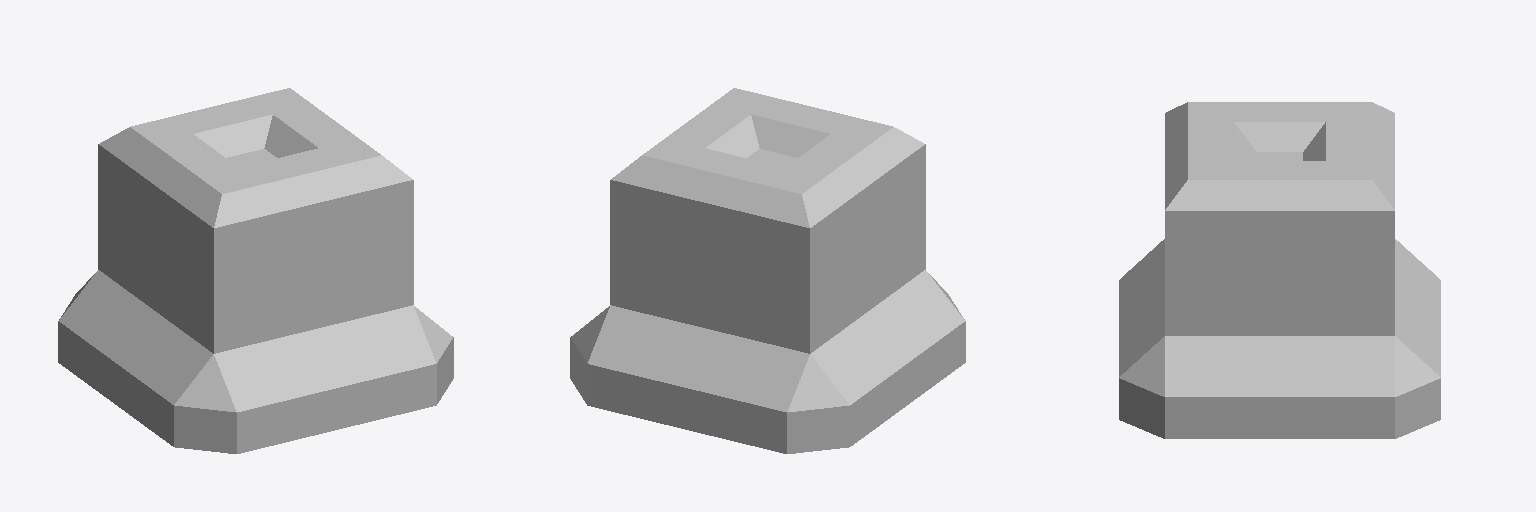
File: circle_toil_body.obj
The picture shows the model from 3 angles: view 1: azimuth 30°, elevation 25°; view 2: azimuth 150°, elevation 25°; view 3: azimuth 270°, elevation 25°; orthographic projection.
Parts seen in each view (by area): view 1: CIRCLE_TOIL_BODY_Cube.044; view 2: CIRCLE_TOIL_BODY_Cube.044; view 3: CIRCLE_TOIL_BODY_Cube.044.
Part boxes in pixels (left/top/right/bottom): CIRCLE_TOIL_BODY_Cube.044: left=58, top=88, right=453, bottom=453; CIRCLE_TOIL_BODY_Cube.044: left=570, top=88, right=965, bottom=453; CIRCLE_TOIL_BODY_Cube.044: left=1119, top=102, right=1440, bottom=438.
Size of the model in its own units: 0.875 by 0.6875 by 0.875.